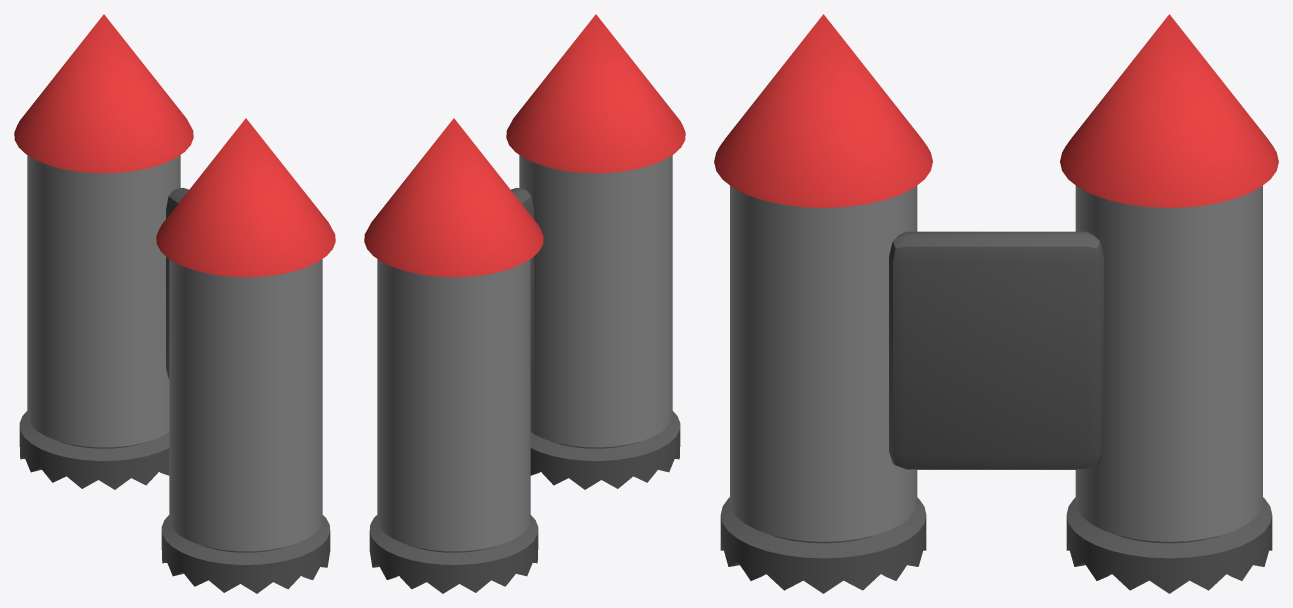
File: JetPack.fbx
The picture shows the model from 3 angles, left to right: view 1: azimuth 30°, elevation 25°; view 2: azimuth 150°, elevation 25°; view 3: azimuth 270°, elevation 25°; orthographic projection. The views are drawn at different scales.
Visible parts, largest first — view 1: Cube; view 2: Cube; view 3: Cube.
Part boxes in pixels (x1,y1,x2,y2): Cube: (14,14,335,593); Cube: (364,14,685,593); Cube: (714,14,1278,593).
Size of the model in its own units: 234 by 632 by 603.
